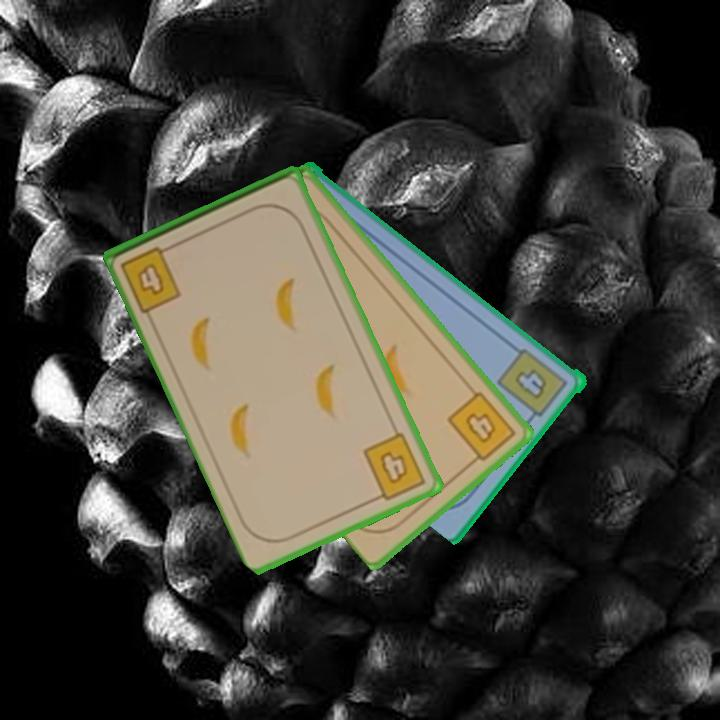4b: (494, 345, 572, 425), (443, 387, 519, 469), (359, 429, 429, 505), (117, 240, 185, 316)
